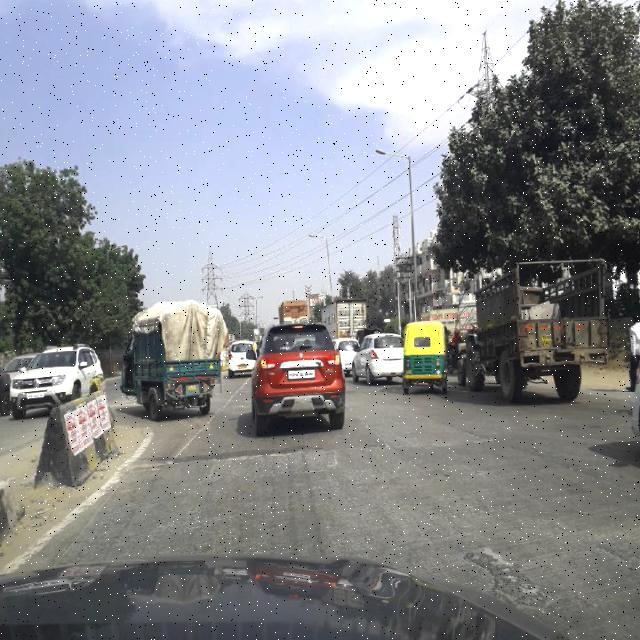D01: (136, 443, 486, 479), (528, 449, 640, 506), (353, 415, 402, 456), (172, 427, 202, 465), (208, 389, 238, 427)
D44: (23, 492, 103, 564), (108, 438, 148, 491)
